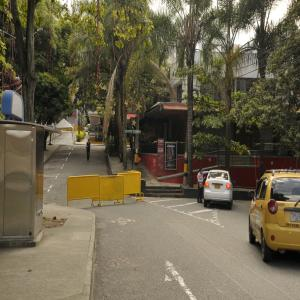Vehicle-registration-plate: (291, 212, 300, 224), (216, 185, 221, 188)
